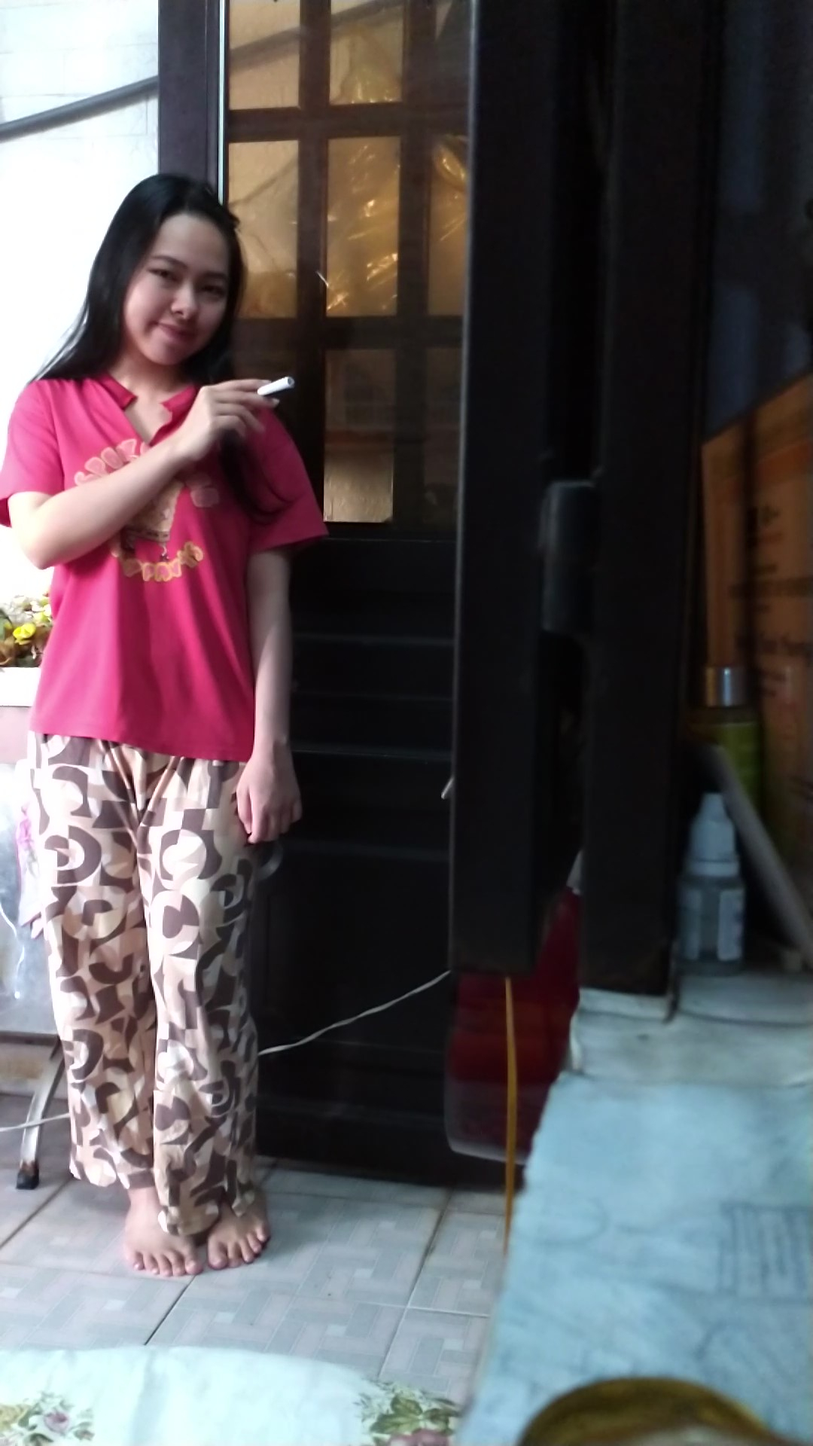cigarette: (255, 372, 302, 400)
person: (5, 146, 328, 1301)
